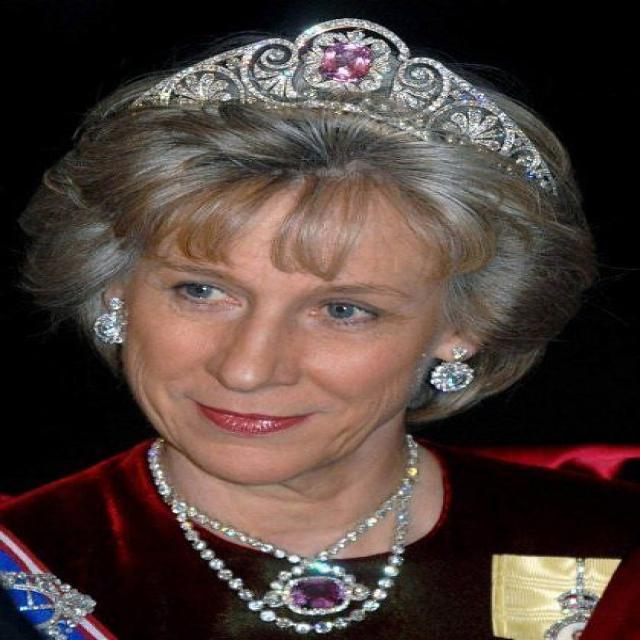Earring: (425, 332, 483, 406), (77, 292, 149, 348)
